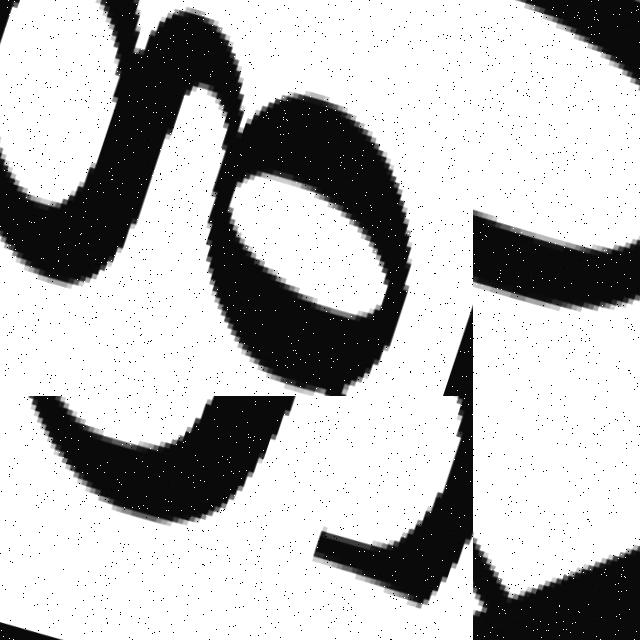0: (473, 0, 640, 382)
G: (0, 0, 473, 396)
S: (0, 396, 473, 640)
X: (473, 396, 640, 640)
